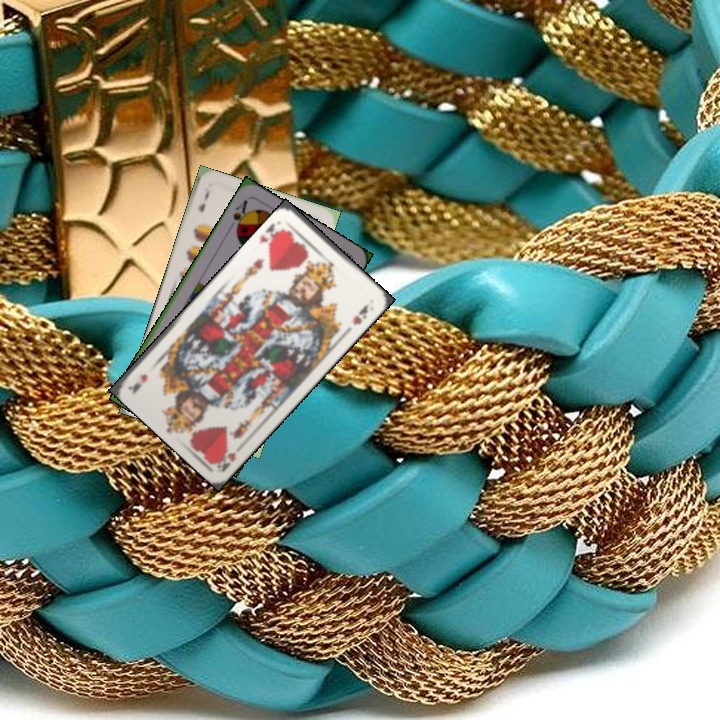E7: (194, 183, 212, 215)
HK: (255, 219, 288, 251), (212, 446, 239, 473)
SA: (229, 195, 252, 235)
